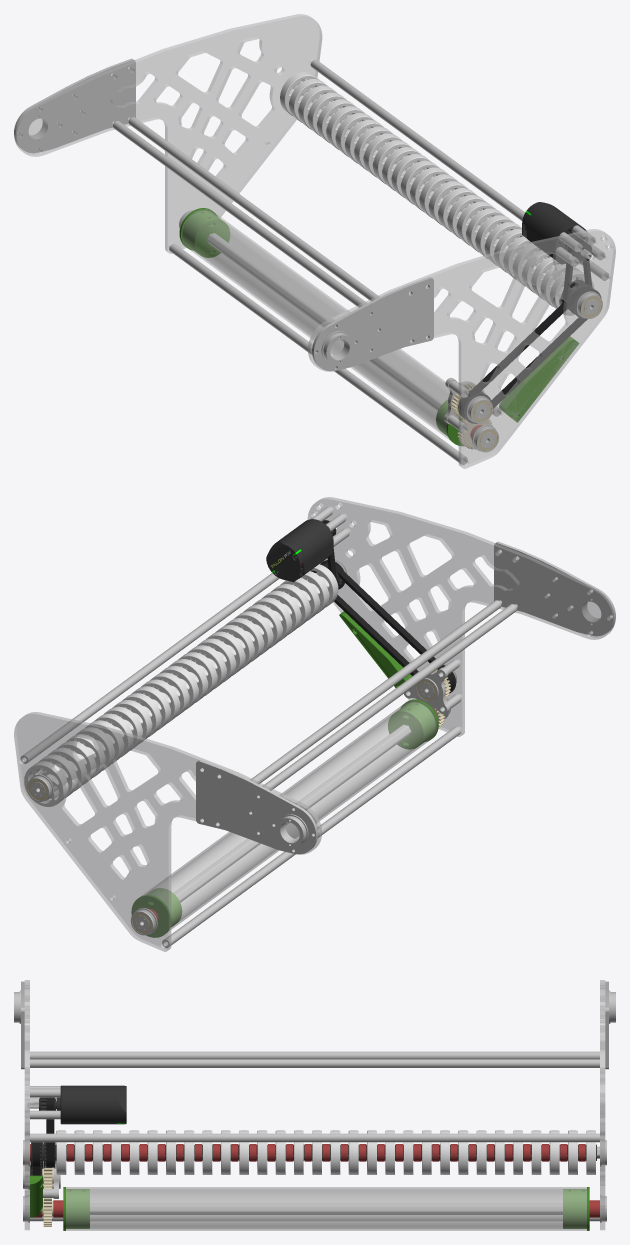
The picture shows the model from 3 angles, top to bottom: view 1: azimuth 30°, elevation 25°; view 2: azimuth 150°, elevation 25°; view 3: azimuth 270°, elevation 25°; orthographic projection. The views are drawn at different scales.
Parts seen in each view (by area): view 1: NF-26-IN-PL1.M, NF-26-IN-PL1, NF-26-IN-TB00, NF26-IN-SP05 (×4), NF-26-IN-CP00, NF-26-IN-CP00.M, NF-26-IN-SH00, 90 Tooth x 9mm HTD5 Belt, Kraken X44 Brushless Motor, NF-26-IN-CP02, NF-26-IN-CP01; view 2: NF-26-IN-PL1.M, NF-26-IN-PL1, NF-26-IN-TB00, NF26-IN-SP05 (×4), NF-26-IN-CP00.M, NF-26-IN-CP00, NF-26-IN-CP01 (×2), NF-26-IN-SH00, Kraken X44 Brushless Motor, 90 Tooth x 9mm HTD5 Belt, NF-26-IN-CP02, 2" ION Compliant Wheel (30A, 1/2" Hex Bore) (+1 smaller); view 3: NF-26-IN-TB00, NF26-IN-SP05 (×4), 2" ION Compliant Wheel (30A, 1/2" Hex Bore) (×30), NF-26-IN-SH00, Kraken X44 Brushless Motor, NF-26-IN-CP01 (×2), NF-26-IN-PL1, NF-26-IN-PL1.M, NF-26-IN-CP00, NF-26-IN-CP00.M, NF-26-IN-CP02, 40 Tooth x 9mm HTD5 Belt.
Boxes of the visible parts, left/top/right/bottom form: NF-26-IN-PL1.M: left=14, top=14, right=322, bottom=253; NF-26-IN-PL1: left=307, top=229, right=615, bottom=468; NF-26-IN-TB00: left=181, top=209, right=450, bottom=440; NF26-IN-SP05 (×4): left=113, top=59, right=609, bottom=464; NF-26-IN-CP00: left=312, top=277, right=433, bottom=371; NF-26-IN-CP00.M: left=14, top=58, right=135, bottom=153; NF-26-IN-SH00: left=207, top=233, right=493, bottom=445; 90 Tooth x 9mm HTD5 Belt: left=460, top=286, right=591, bottom=417; Kraken X44 Brushless Motor: left=522, top=202, right=591, bottom=264; NF-26-IN-CP02: left=499, top=336, right=579, bottom=422; NF-26-IN-CP01: left=179, top=208, right=230, bottom=257; NF-26-IN-PL1.M: left=14, top=712, right=322, bottom=951; NF-26-IN-PL1: left=307, top=497, right=615, bottom=736; NF-26-IN-TB00: left=142, top=700, right=437, bottom=931; NF26-IN-SP05 (×4): left=20, top=573, right=516, bottom=947; NF-26-IN-CP00.M: left=196, top=760, right=317, bottom=854; NF-26-IN-CP00: left=494, top=541, right=615, bottom=636; NF-26-IN-CP01 (×2): left=131, top=699, right=438, bottom=937; NF-26-IN-SH00: left=136, top=724, right=411, bottom=928; Kraken X44 Brushless Motor: left=266, top=519, right=333, bottom=581; 90 Tooth x 9mm HTD5 Belt: left=321, top=561, right=453, bottom=690; NF-26-IN-CP02: left=339, top=611, right=411, bottom=687; 2" ION Compliant Wheel (30A, 1/2" Hex Bore): left=24, top=761, right=68, bottom=806; NF-26-IN-TB00: left=66, top=1187, right=586, bottom=1230; NF26-IN-SP05 (×4): left=30, top=1051, right=599, bottom=1221; 2" ION Compliant Wheel (30A, 1/2" Hex Bore) (×30): left=55, top=1130, right=596, bottom=1174; NF-26-IN-SH00: left=90, top=1203, right=562, bottom=1214; Kraken X44 Brushless Motor: left=27, top=1085, right=126, bottom=1124; NF-26-IN-CP01 (×2): left=63, top=1187, right=589, bottom=1230; NF-26-IN-PL1: left=24, top=980, right=29, bottom=1230; NF-26-IN-PL1.M: left=600, top=980, right=605, bottom=1230; NF-26-IN-CP00: left=14, top=981, right=24, bottom=1069; NF-26-IN-CP00.M: left=605, top=981, right=615, bottom=1069; NF-26-IN-CP02: left=30, top=1175, right=42, bottom=1217; 40 Tooth x 9mm HTD5 Belt: left=46, top=1097, right=54, bottom=1167.
Bounding box in the file's own units: 0.3918 × 0.2555 × 0.682.
